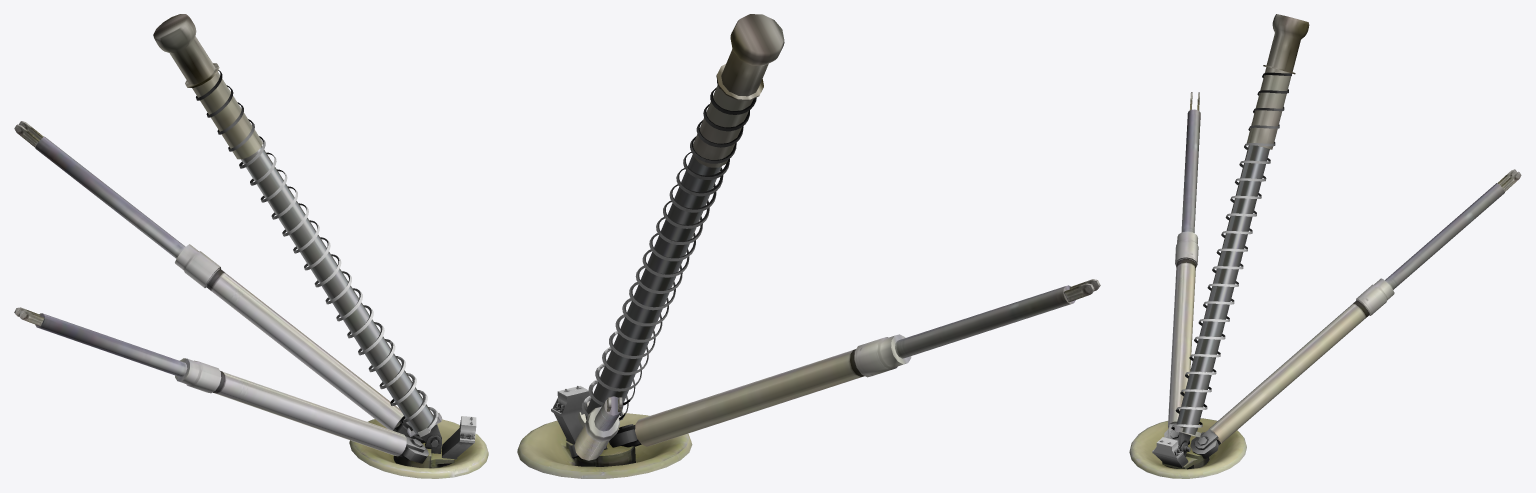
The model's file is insight-legs.glb.
3 renders of one model, left to right at view 1: azimuth 30°, elevation 25°; view 2: azimuth 150°, elevation 25°; view 3: azimuth 270°, elevation 25°, orthographic. The views are drawn at different scales.
Visible parts, largest first — view 1: leg_r; view 2: leg_r; view 3: leg_r.
Boxes of the visible parts, x1,y1,x2,y2 form: leg_r: (14, 14, 488, 478); leg_r: (517, 14, 1100, 478); leg_r: (1129, 14, 1521, 478).
Size of the model in its own units: 1.11 by 1.04 by 0.9771.
Materials: 2 (2 with a texture image).
